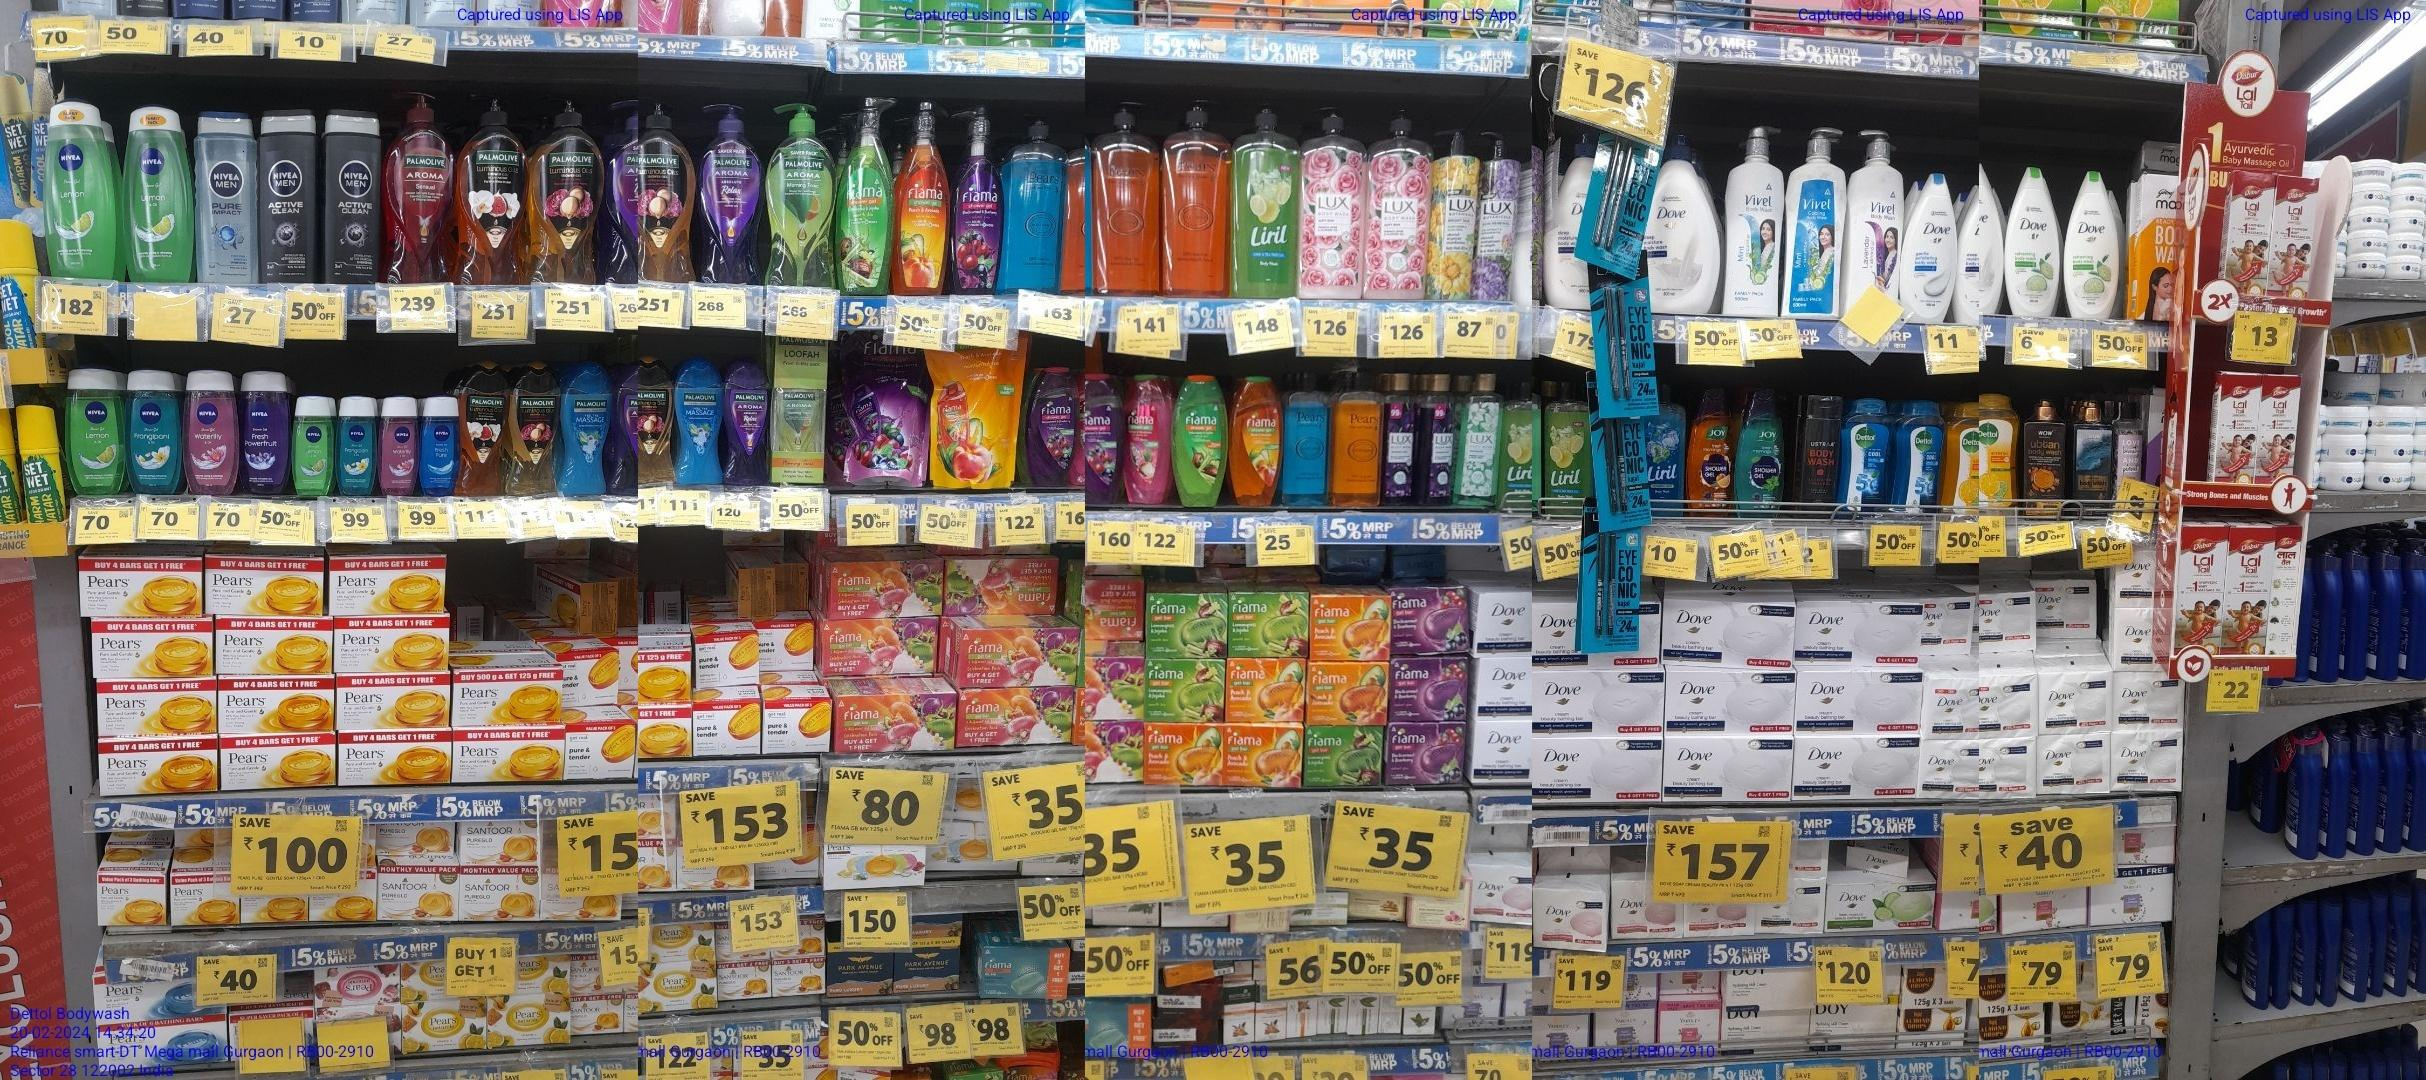Dettol_Bodywash_Cool: (1894, 395, 1942, 521), (1841, 395, 1889, 517)
Dettol_Bodywash_Refresh: (1979, 395, 2019, 515)
Dove_Gentle_Exfoliating_Body_Wash_250ML: (1900, 170, 1957, 317)
Dove_Refreshing_Body_Wash_250ML: (2005, 166, 2062, 314), (2067, 167, 2121, 317)
Fiama_Shower_Gel_Lemongrass_and_Jojoba_250ML: (1173, 371, 1225, 506)
Fiama_Shower_Gel_Patchouli_and_Macadamia_250ML: (1123, 374, 1170, 503)
Fiama_Shower_Gel_Peach_and_Avocado_250ML: (1228, 376, 1280, 504)
Joy_Shower_Gel_Mandarin_and_Lemongrass_250ML: (1688, 387, 1731, 517)
Joy_Shower_Gel_Mint_and_Eucalyptus_250ML: (1737, 387, 1784, 521)
Liril_Lime_and_Tea_Tree_Oil_Body_Wash_250ML: (1543, 381, 1592, 498)
Lux_Black_Orchid_Scent_and_Juniper_Oil_Body_Wash_245ML: (1382, 368, 1414, 509), (1420, 368, 1451, 506)
Lux_Body_Wash_Skin_Detox_Freesia_Scent_and_Alove_Vera_245ML: (1457, 376, 1498, 511)
Nivea_Shower_Gel_Frangipani_and_Oil_250ML: (127, 368, 179, 494), (336, 395, 376, 495)
Nivea_Shower_Gel_Fresh_Powerfruit_250ML: (238, 371, 289, 494)
Nivea_Shower_Gel_Lemon_and_Oil_250ML: (45, 99, 118, 277), (124, 104, 193, 285), (65, 367, 122, 495), (292, 395, 334, 495)
Nivea_Shower_Gel_Waterlily_and_Oil_250ML: (181, 367, 235, 495), (379, 393, 418, 497)
Palmolive_Aroma_Moments_Feel_The_Massage_Shower_Gel_250ML: (560, 362, 613, 495), (673, 357, 723, 486)
Palmolive_Aroma_Relax_250ML: (724, 362, 771, 484)
Palmolive_Luminous_Oils_Invigorating_Macadamia_Oil_With_Peony_250ML: (509, 364, 557, 492), (637, 357, 671, 483)
Palmolive_Luminous_Oils_With_White_Orchid_Shower_Gel_250ML: (460, 362, 504, 495)
Pears_Pure_Glycerin_and_Mint_Extracts_Body_Wash_250ML: (1284, 365, 1327, 506)
